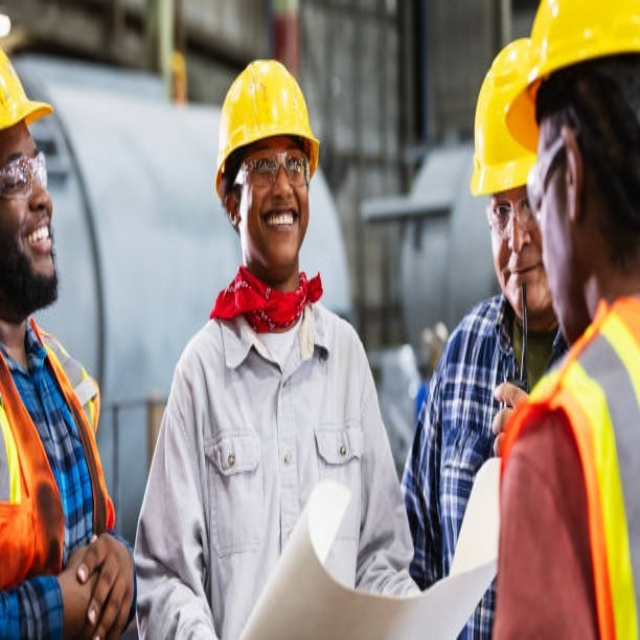Gafas: (229, 150, 313, 200), (0, 150, 50, 202), (528, 135, 563, 209), (486, 200, 534, 236)
Sin_guantes: (66, 529, 137, 640), (492, 381, 531, 456)
Sin_mascara: (17, 204, 56, 281), (501, 249, 544, 303), (256, 200, 300, 252)
